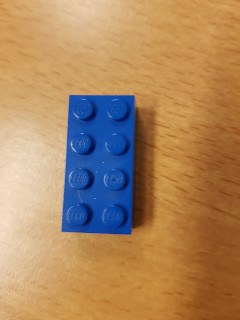2x4 blue: (62, 90, 136, 238)
